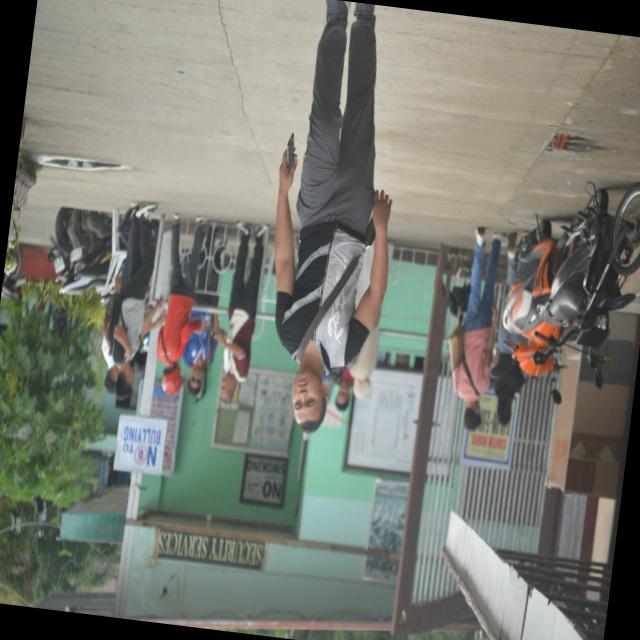person: (274, 0, 390, 432), (452, 227, 506, 430), (214, 221, 268, 403), (112, 203, 162, 399), (156, 213, 207, 393), (489, 232, 527, 425), (182, 310, 218, 396), (347, 314, 379, 397), (335, 366, 353, 410)
